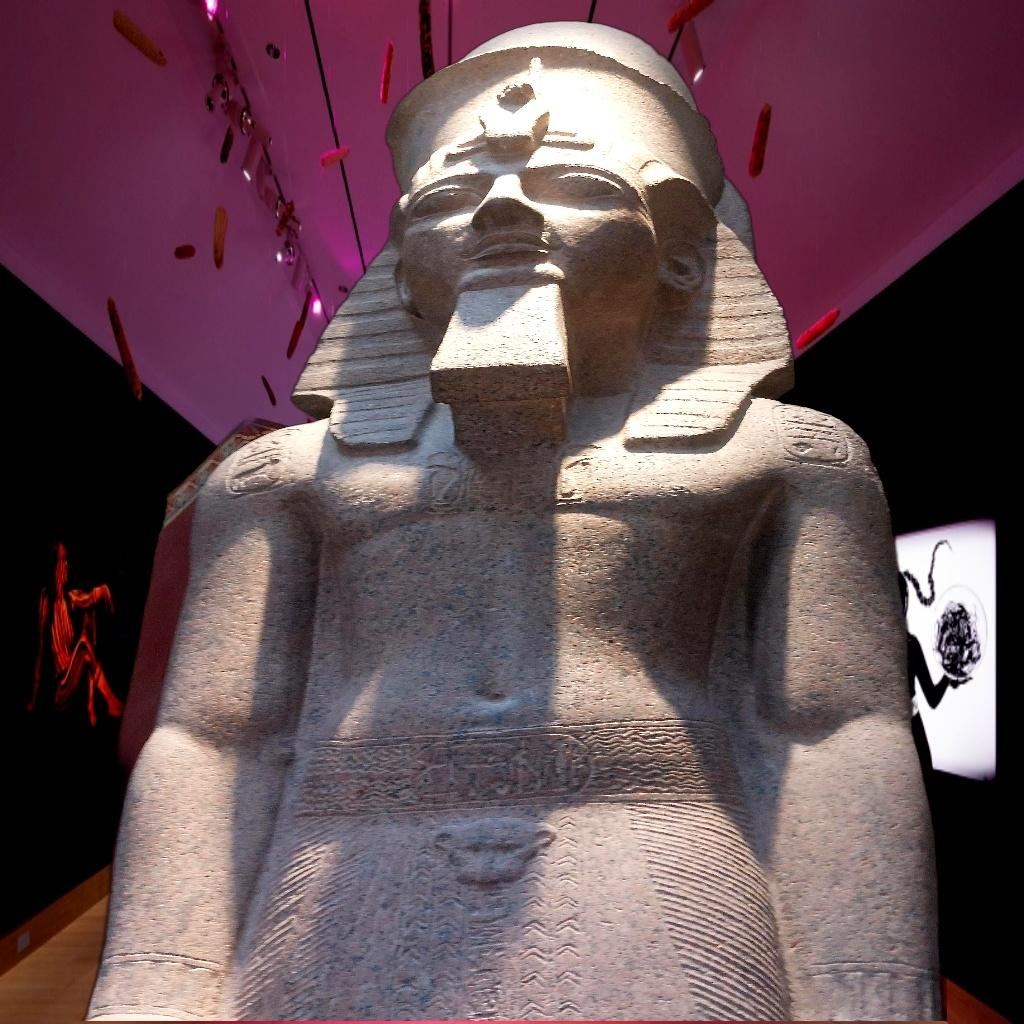Colossal Statue of Ramesses II: (74, 18, 946, 1022)
